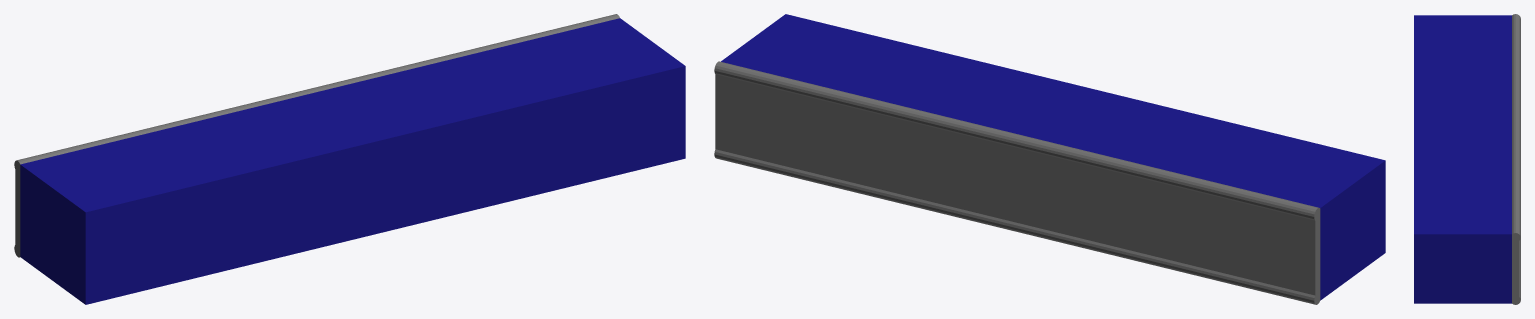
The model's file is Rail-Box Straight.fbx.
3 views of the same model, side by side, from view 1: azimuth 30°, elevation 25°; view 2: azimuth 150°, elevation 25°; view 3: azimuth 270°, elevation 25° (orthographic). The views are drawn at different scales.
Visible parts, largest first — view 1: Rail-Box Straight; view 2: Rail-Box Straight; view 3: Rail-Box Straight.
Part boxes in pixels (x1=…): Rail-Box Straight: x1=14, y1=14, x2=685, y2=304; Rail-Box Straight: x1=714, y1=14, x2=1385, y2=304; Rail-Box Straight: x1=1414, y1=14, x2=1520, y2=304.
Bounding box in the file's own units: 1000 × 153 × 206.
